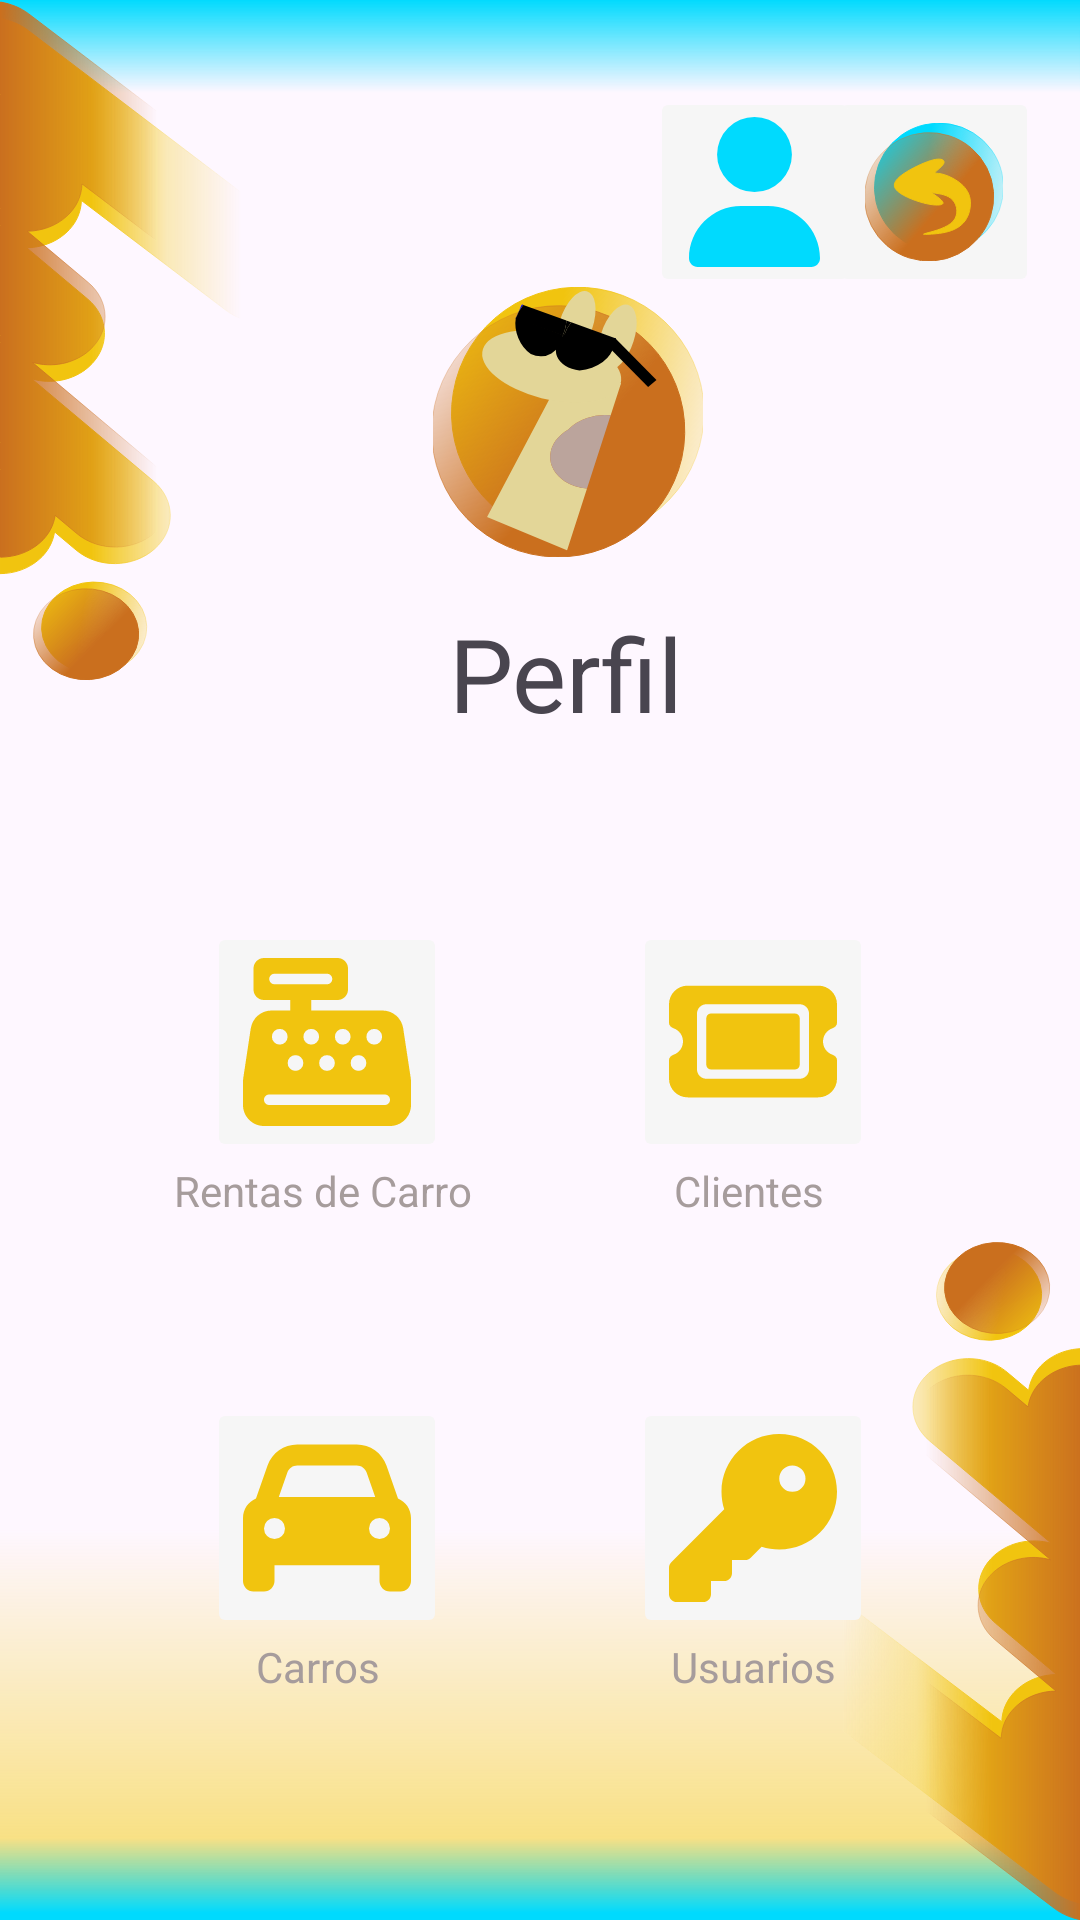

Icon bounding boxes for this 1080px x 1920px phone screenshot, format (x1, y1, x2, y2):
bakcbutton: (865, 123, 1003, 261)
carsolid: (243, 1444, 411, 1592)
cash register: (243, 958, 411, 1126)
key: (669, 1434, 837, 1602)
ticket: (669, 985, 837, 1098)
user: (689, 117, 820, 267)
